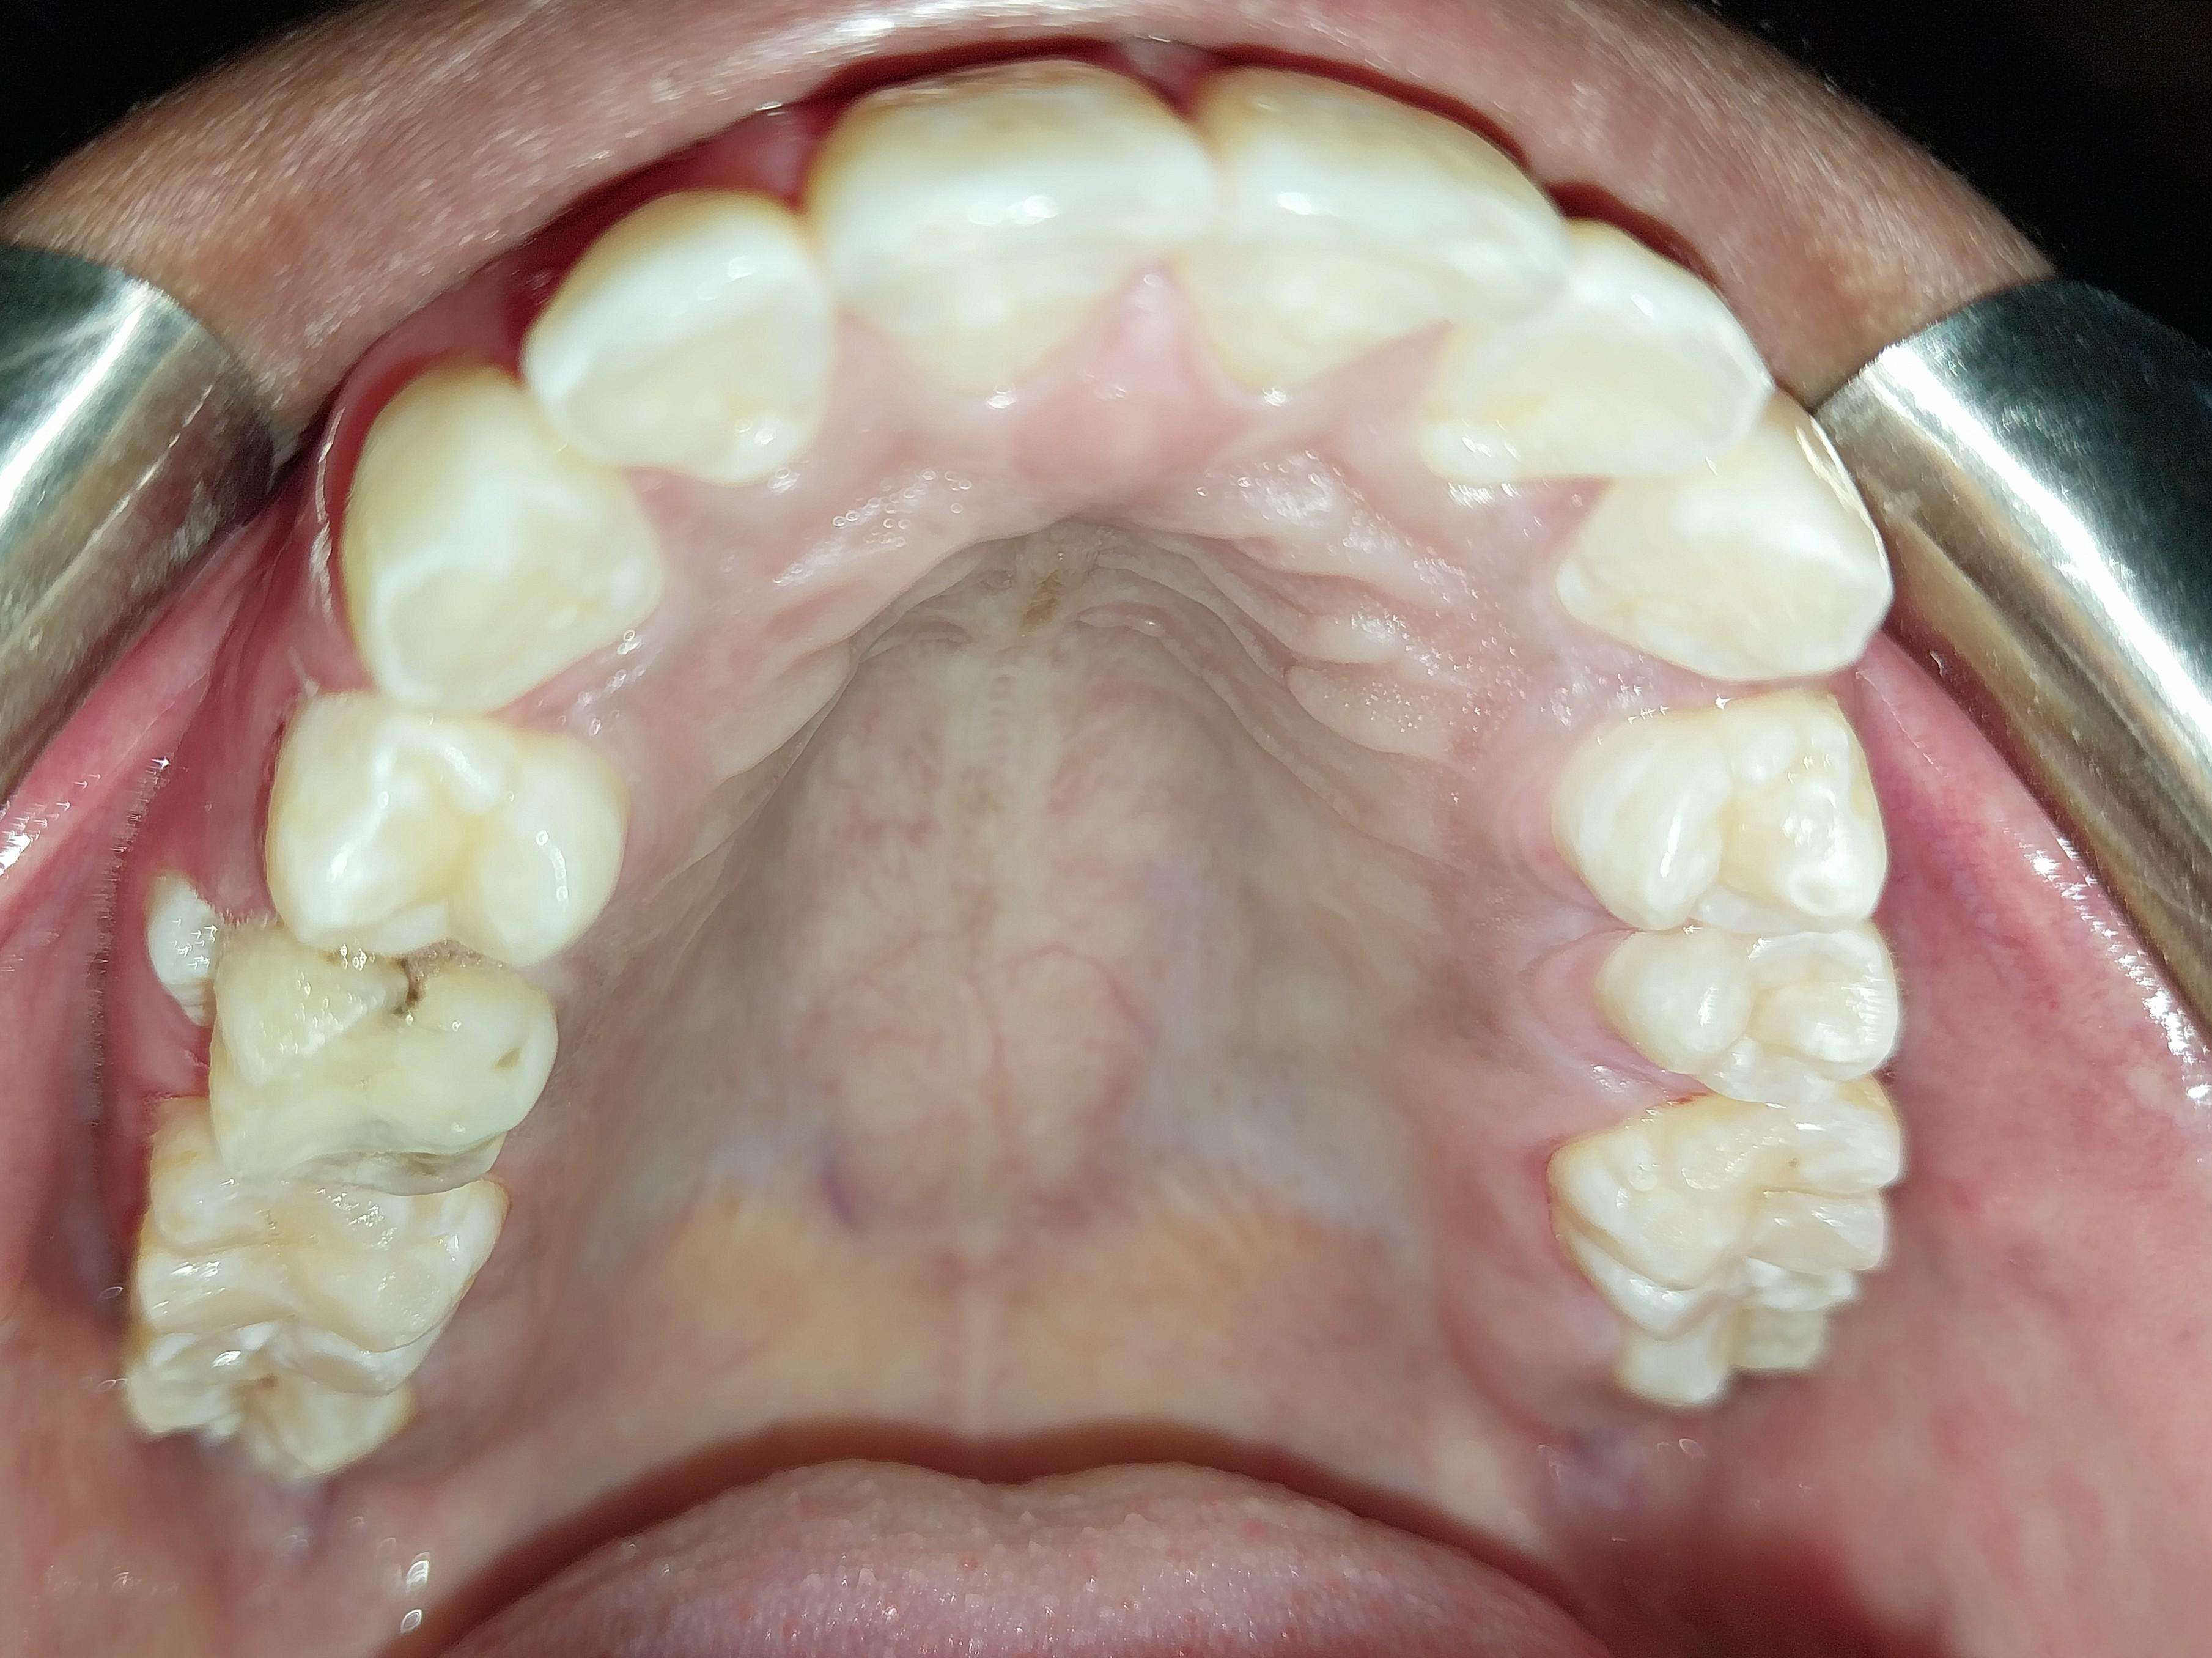d: (197, 957, 558, 1196)
